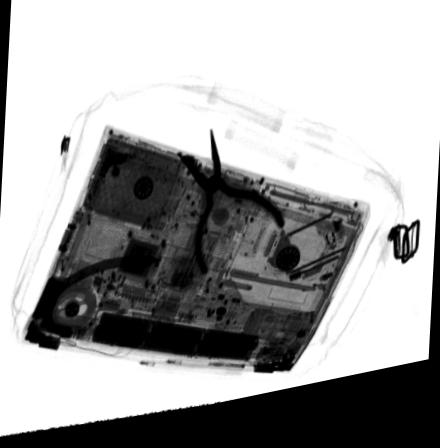Pliers: (178, 137, 286, 286)
